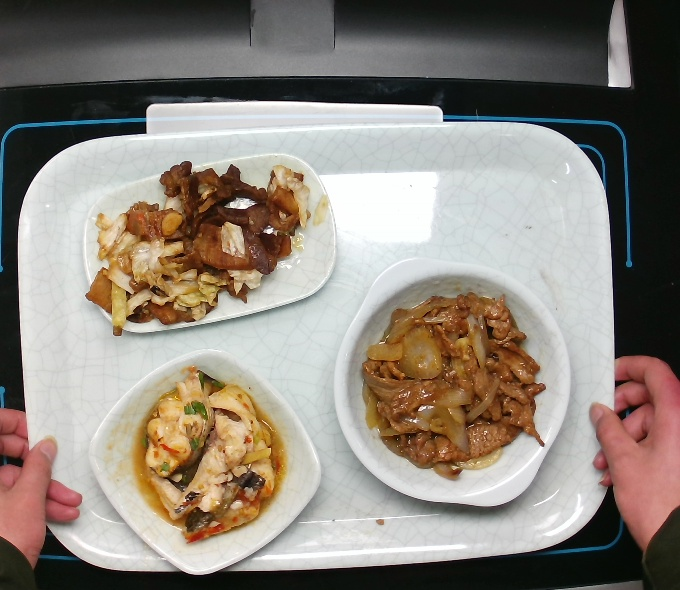wcq-DuoJiaoYuKuai: (144, 370, 281, 544)
wcq-PaoCaiRouPian: (68, 157, 333, 342)
wcq-YangCongRouPian: (356, 281, 548, 487)
